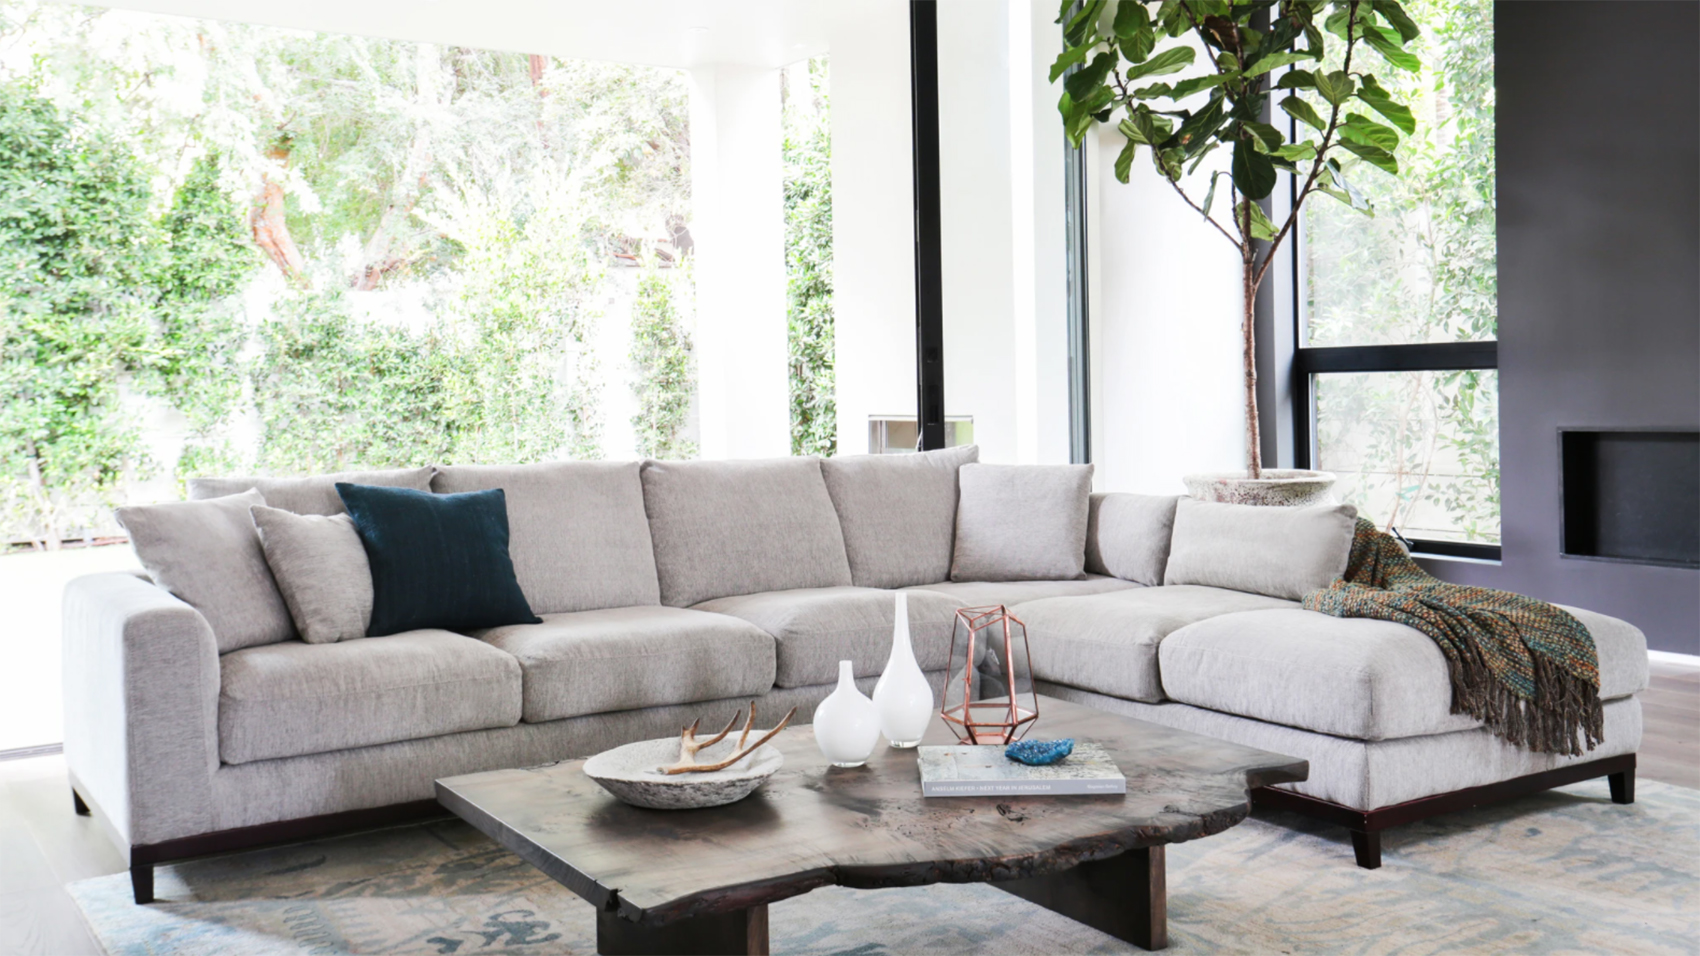bantal: (356, 483, 542, 623), (126, 491, 292, 644), (256, 507, 363, 641)
buku: (914, 734, 1130, 810)
meja: (432, 690, 1314, 937)
sova: (53, 453, 1661, 852)
